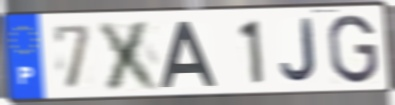1: (237, 17, 265, 86)
7: (51, 23, 92, 92)
A: (158, 20, 219, 90)
G: (326, 13, 381, 86)
J: (278, 16, 320, 84)
X: (95, 18, 165, 92)
